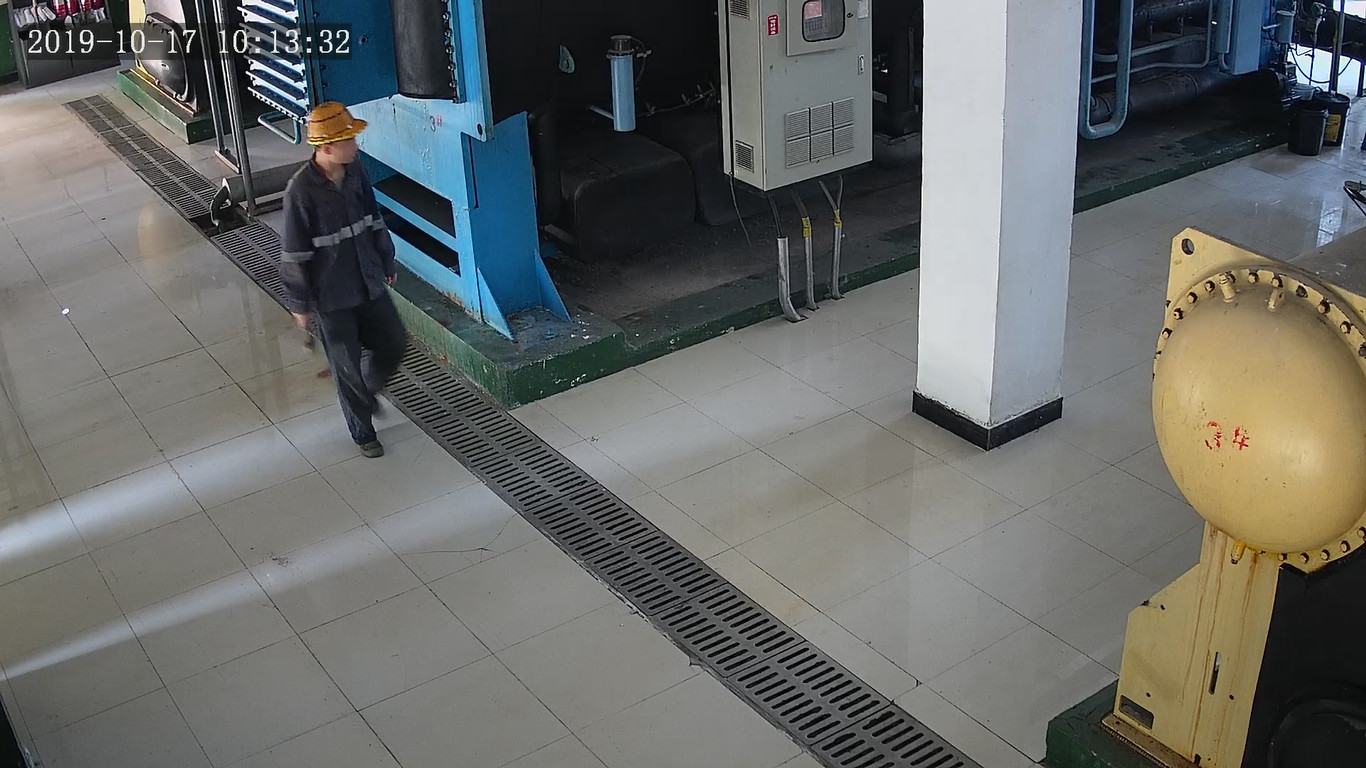helmet: (304, 102, 367, 144)
